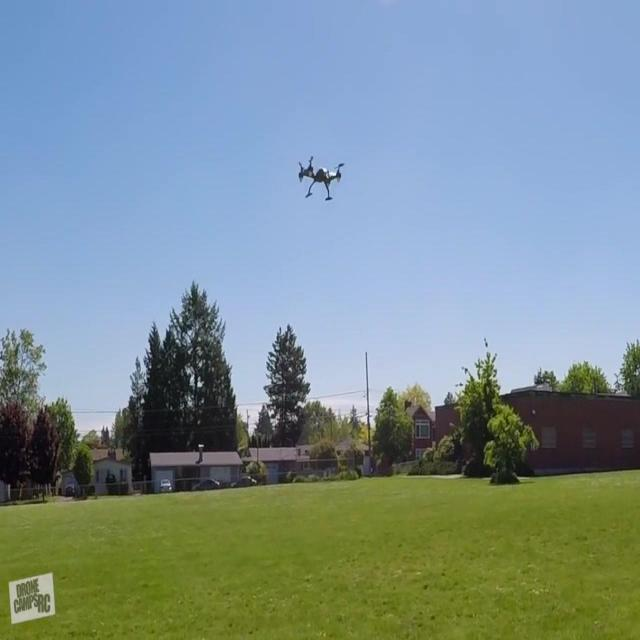UAV: (298, 155, 346, 201)
